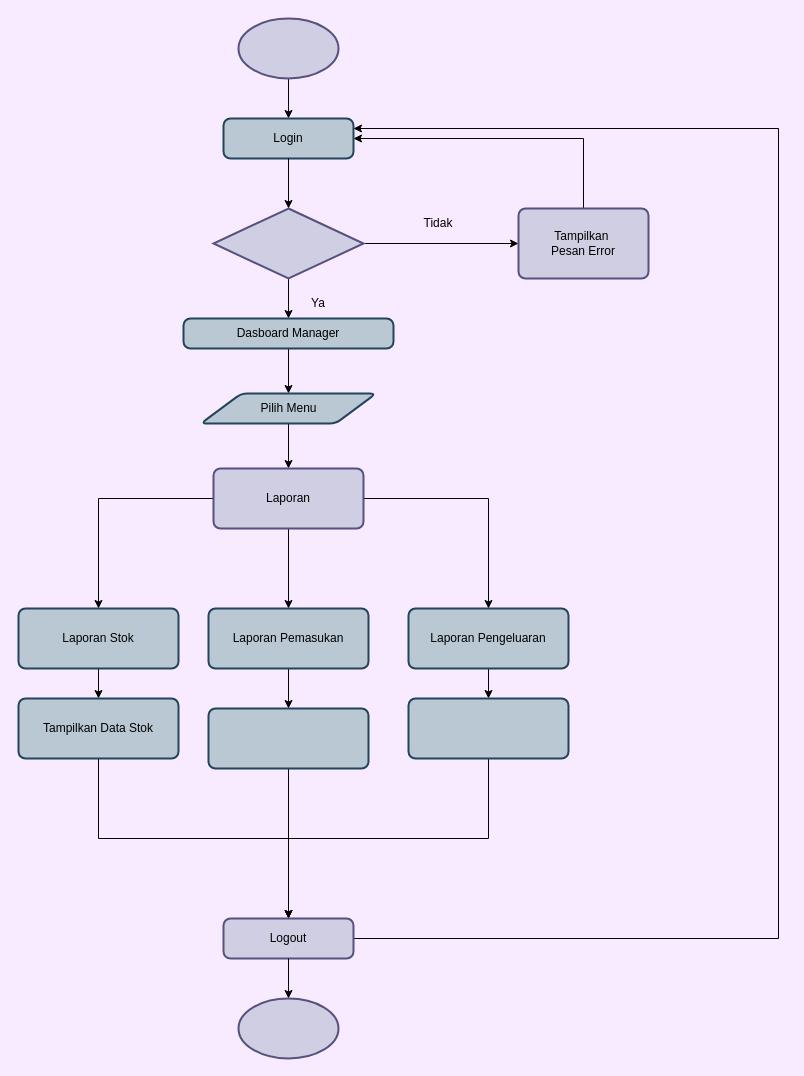
Image size: 804x1076. Some labels were removed from this diagram. Here are the shapes that lost their labels. From the top down, the box of each, then its label:
(237, 17, 339, 79): Mulai
(212, 207, 364, 279): Login Berhasil?
(207, 707, 369, 769): Tampilkan Data Pemasukan
(407, 697, 569, 759): Tampilkan Data Pengeluaran
(237, 997, 339, 1059): Selesai
